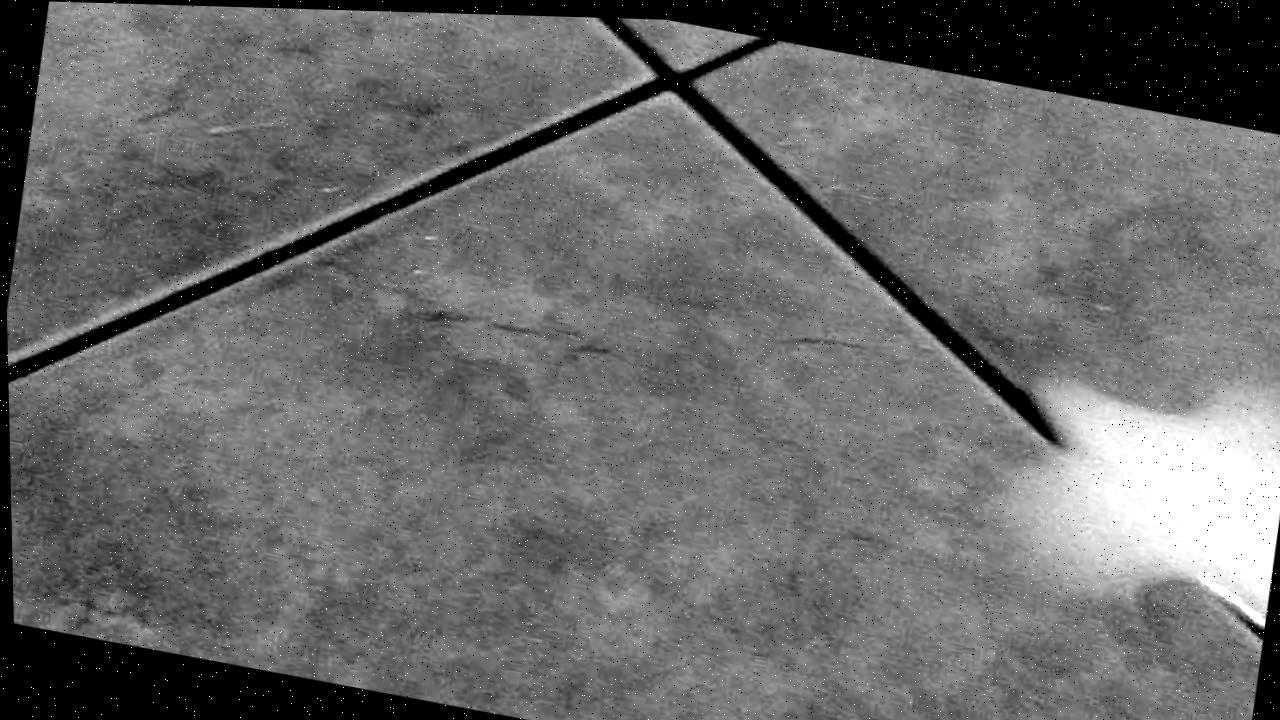drinks Stains: (978, 330, 1280, 679)
